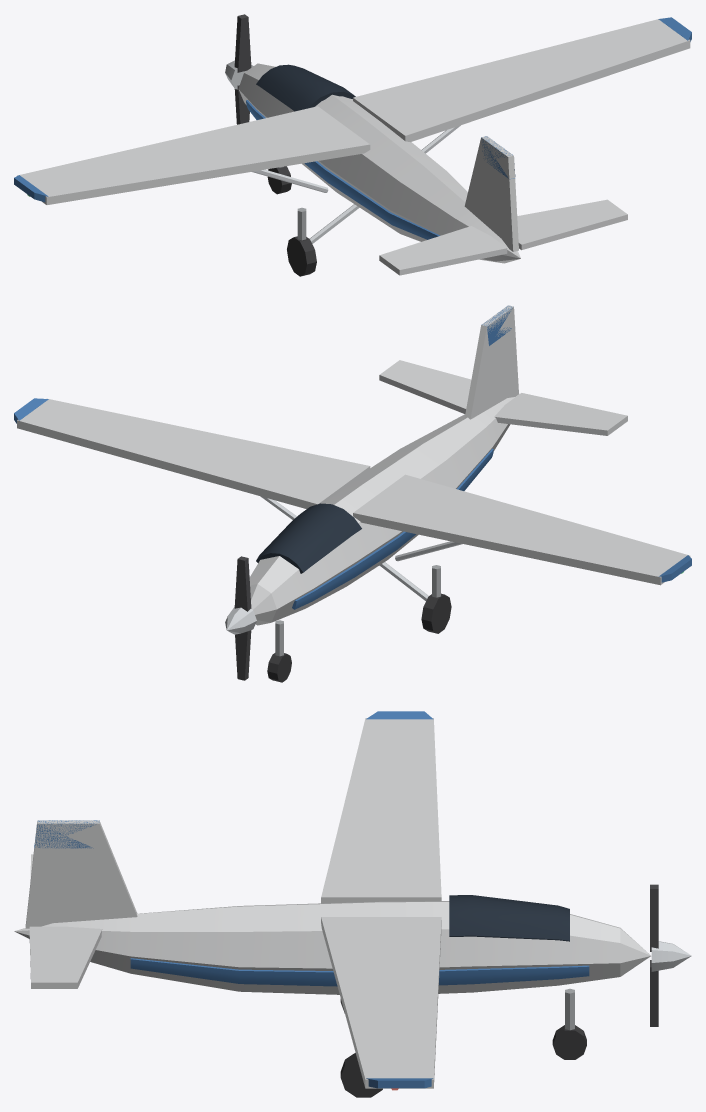
Rendered from plane_prop.fbx.
3 renders of one model, top to bottom at view 1: azimuth 30°, elevation 25°; view 2: azimuth 150°, elevation 25°; view 3: azimuth 270°, elevation 25°, orthographic. The views are drawn at different scales.
Parts seen in each view (by area): view 1: PlaneProp; view 2: PlaneProp; view 3: PlaneProp.
Part boxes in pixels (x1,y1,x2,y2): PlaneProp: (14,14,691,276); PlaneProp: (14,305,691,682); PlaneProp: (14,711,691,1097).
Size of the model in its own units: 11.24 by 3.34 by 8.72.
